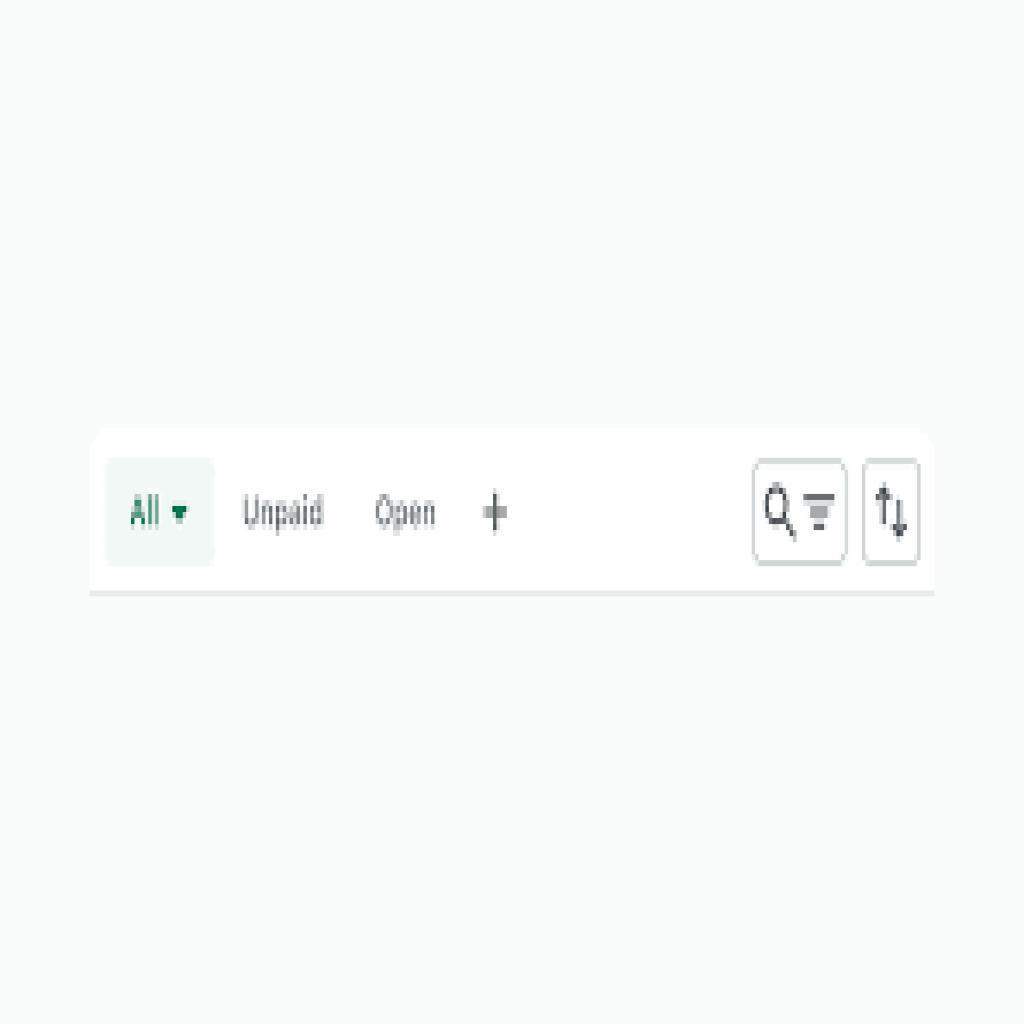dropdown: (104, 457, 221, 567)
icon: (764, 474, 835, 550), (480, 483, 511, 540)
